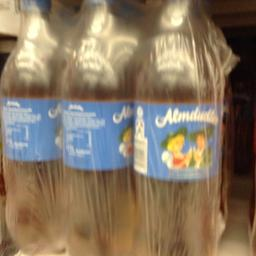soda: (132, 1, 220, 255), (58, 0, 132, 255), (0, 0, 62, 255)
